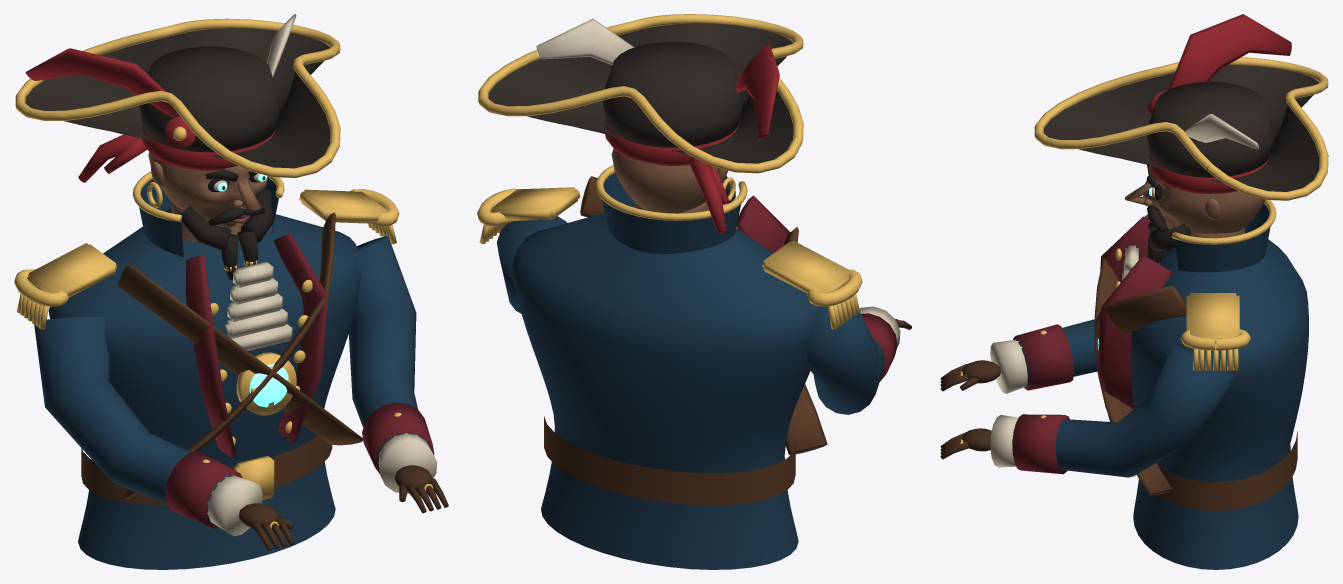
Rendered from opp_objavy.glb.
3 views of the same model, side by side, from view 1: azimuth 30°, elevation 25°; view 2: azimuth 150°, elevation 25°; view 3: azimuth 270°, elevation 25° (orthographic). The views are drawn at different scales.
Parts seen in each view (by area): view 1: NavalLongcoatBody, NavalCoatSleeve_L, TricornUpturnedBrim, TricornCrown, NavalCoatSleeve_R, TricornBrassEdgeTrim, CrossedBandolier_2, CoatRevers_R, CoatRevers_L, TatteredPlumeCrimson, SculptedHead, CorsairWaistBelt (+28 smaller); view 2: NavalLongcoatBody, TricornUpturnedBrim, TricornCrown, CorsairWaistBelt, TricornBrassEdgeTrim, NavalCoatSleeve_L, AdmiralHighCollar, SculptedHead, NavalEpauletteBoard_L, TatteredPlumeIvory, CrossedBandolier_1, TatteredPlumeCrimson (+9 smaller); view 3: NavalLongcoatBody, TricornUpturnedBrim, NavalCoatSleeve_R, TricornCrown, TricornBrassEdgeTrim, TatteredPlumeCrimson, CoatRevers_R, CorsairWaistBelt, SculptedHead, AdmiralHighCollar, NavalTurnbackCuff_L, NavalTurnbackCuff_R (+14 smaller).
Part boxes in pixels (x1,y1,x2,y2): NavalLongcoatBody: [48, 208, 361, 569]; NavalCoatSleeve_L: [34, 317, 235, 524]; TricornUpturnedBrim: [25, 28, 333, 168]; TricornCrown: [139, 46, 280, 152]; NavalCoatSleeve_R: [348, 236, 427, 462]; TricornBrassEdgeTrim: [15, 18, 340, 177]; CrossedBandolier_2: [117, 262, 363, 445]; CoatRevers_R: [273, 233, 328, 443]; CoatRevers_L: [185, 254, 235, 457]; TatteredPlumeCrimson: [25, 48, 180, 117]; SculptedHead: [148, 152, 267, 227]; CorsairWaistBelt: [81, 435, 332, 505]; NavalLongcoatBody: [511, 204, 821, 569]; TricornUpturnedBrim: [488, 23, 793, 163]; TricornCrown: [602, 41, 743, 147]; CorsairWaistBelt: [544, 416, 795, 505]; TricornBrassEdgeTrim: [478, 14, 803, 173]; NavalCoatSleeve_L: [803, 306, 884, 414]; AdmiralHighCollar: [602, 172, 740, 254]; SculptedHead: [611, 148, 727, 213]; NavalEpauletteBoard_L: [762, 240, 850, 293]; TatteredPlumeIvory: [536, 18, 634, 64]; CrossedBandolier_1: [580, 176, 827, 454]; TatteredPlumeCrimson: [736, 44, 779, 140]; NavalLongcoatBody: [1130, 229, 1308, 569]; TricornUpturnedBrim: [1044, 65, 1319, 191]; NavalCoatSleeve_R: [1012, 341, 1235, 477]; TricornCrown: [1147, 81, 1273, 177]; TricornBrassEdgeTrim: [1034, 57, 1328, 200]; TatteredPlumeCrimson: [1168, 14, 1291, 89]; CoatRevers_R: [1097, 255, 1172, 421]; CorsairWaistBelt: [1157, 431, 1297, 510]; SculptedHead: [1142, 167, 1265, 233]; AdmiralHighCollar: [1174, 204, 1270, 272]; NavalTurnbackCuff_L: [1013, 324, 1073, 390]; NavalTurnbackCuff_R: [1012, 414, 1069, 474].
Size of the model in its own units: 0.6979 by 0.8964 by 0.7036.
